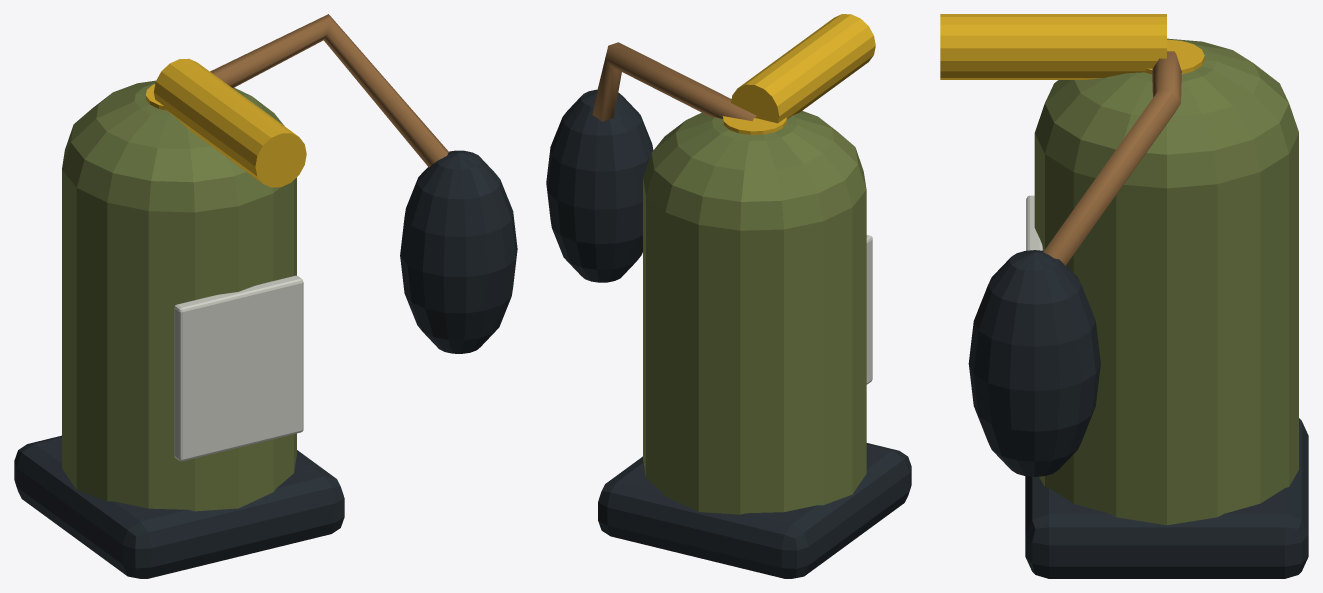
File: stink-sprayer.glb
3 renders of one model, left to right at view 1: azimuth 30°, elevation 25°; view 2: azimuth 150°, elevation 25°; view 3: azimuth 270°, elevation 25°, orthographic. The views are drawn at different scales.
Parts seen in each view (by area): view 1: pressure vessel; view 2: pressure vessel; view 3: pressure vessel.
Part boxes in pixels (box(x1,y1,x2,y2)): pressure vessel: box(14, 14, 517, 578); pressure vessel: box(546, 14, 911, 578); pressure vessel: box(940, 14, 1308, 578).
Bounding box in the file's own units: 0.52 × 0.6058 × 0.39.
